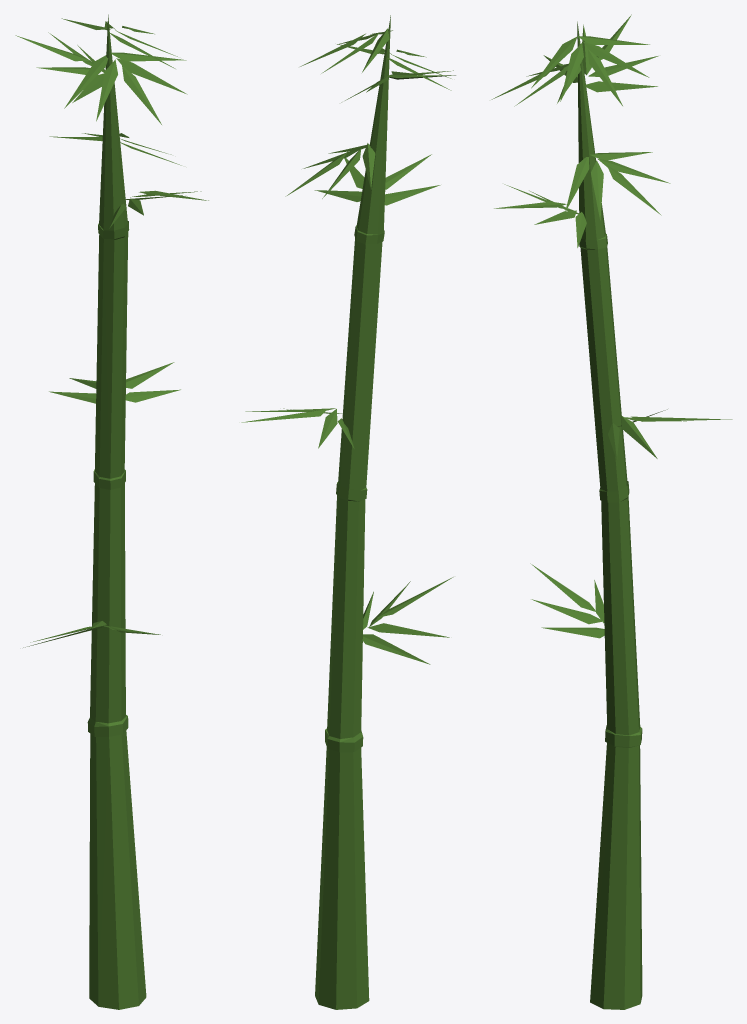
File: bamboo_rostok1.fbx
3 views of the same model, side by side, from view 1: azimuth 30°, elevation 25°; view 2: azimuth 150°, elevation 25°; view 3: azimuth 270°, elevation 25° (orthographic). The views are drawn at different scales.
Visible parts, largest first — view 1: bamboo_rostok1; view 2: bamboo_rostok1; view 3: bamboo_rostok1.
Part boxes in pixels (box(x1,y1,x2,y2)): bamboo_rostok1: box(15, 14, 208, 1009); bamboo_rostok1: box(241, 15, 455, 1009); bamboo_rostok1: box(491, 14, 732, 1009).
Bounding box in the file's own units: 95.49 × 507 × 116.
